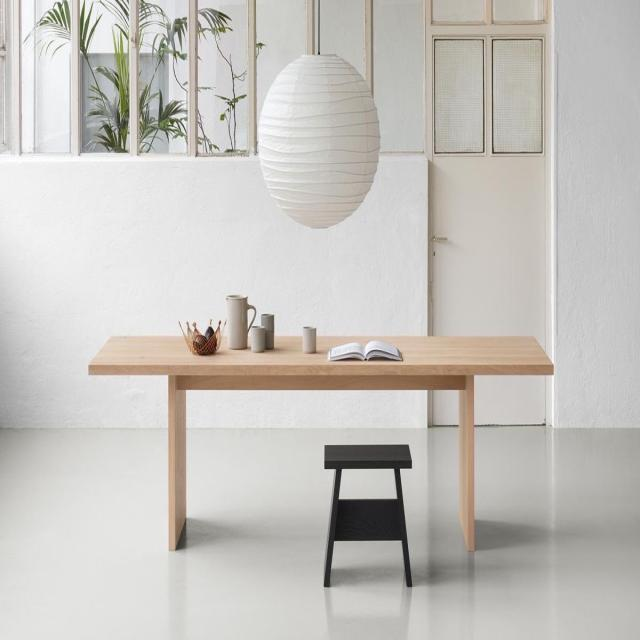table: (74, 300, 573, 594)
